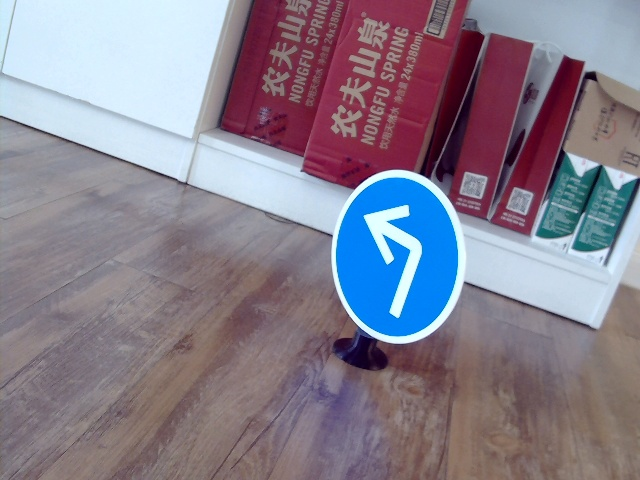turn_left: (362, 203, 429, 314)
